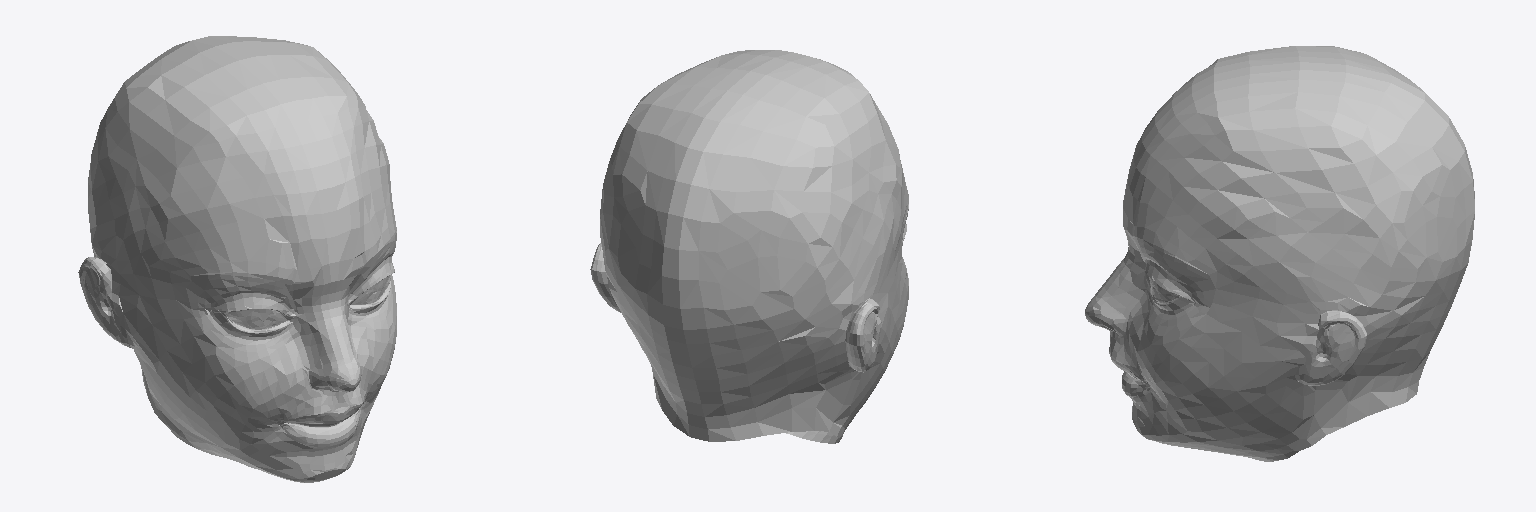
File: womanhead.obj
The picture shows the model from 3 angles: view 1: azimuth 30°, elevation 25°; view 2: azimuth 150°, elevation 25°; view 3: azimuth 270°, elevation 25°; orthographic projection.
Visible parts, largest first — view 1: head, lips, eyewhite; view 2: head; view 3: head, lips.
Boxes of the visible parts, x1,y1,x2,y2 form: head: [78, 36, 396, 482]; lips: [277, 402, 363, 446]; eyewhite: [226, 275, 390, 329]; head: [590, 50, 908, 443]; head: [1085, 46, 1474, 461]; lips: [1109, 352, 1150, 395].
Bounding box in the file's own units: 6.54 × 8.74 × 8.14.